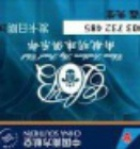ImgView: (1, 1, 139, 148)
